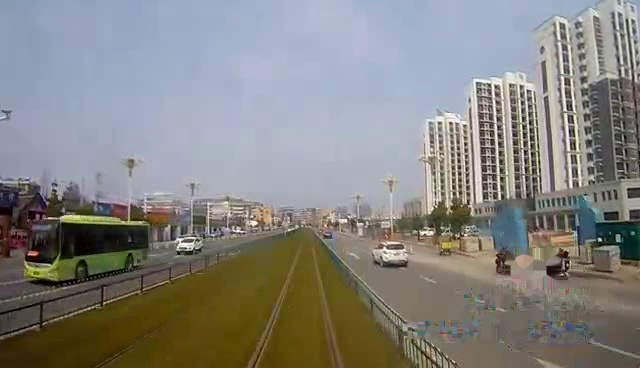bus: (17, 211, 159, 288)
car: (369, 237, 417, 280), (168, 235, 213, 260)
